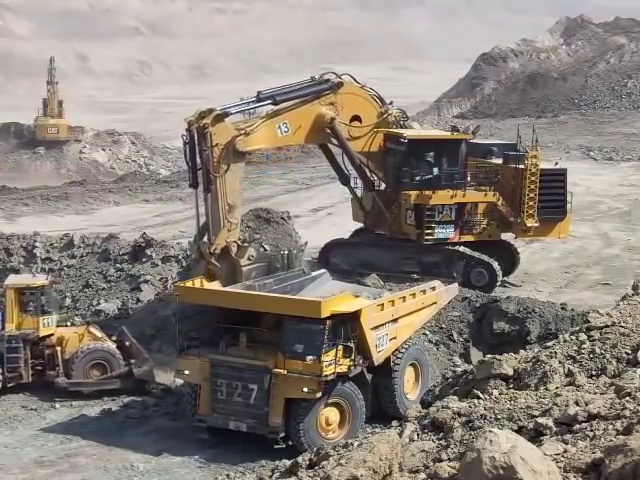dumper: (168, 278, 465, 451)
excavator: (179, 70, 573, 295), (34, 53, 74, 146)
wheel loader: (4, 275, 174, 397)
